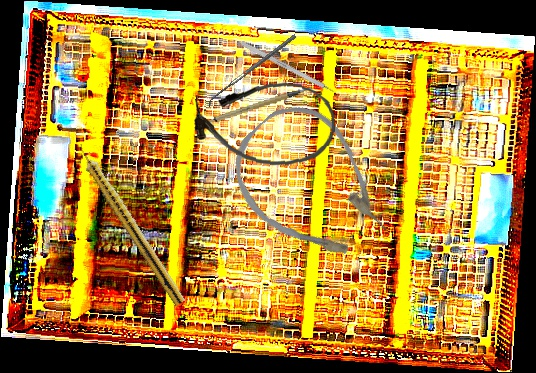Cannula: (212, 87, 410, 287), (191, 75, 338, 170)
Handpiece: (72, 140, 190, 307)
Hook Surgical: (240, 40, 344, 99)
Scalpel Handle: (196, 86, 316, 129)
Spatula Surgical: (204, 34, 300, 108)
